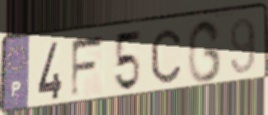4: (35, 39, 64, 104)
5: (112, 28, 142, 93)
9: (229, 16, 257, 77)
C: (149, 27, 183, 86)
F: (69, 32, 108, 101)
G: (186, 17, 223, 85)
